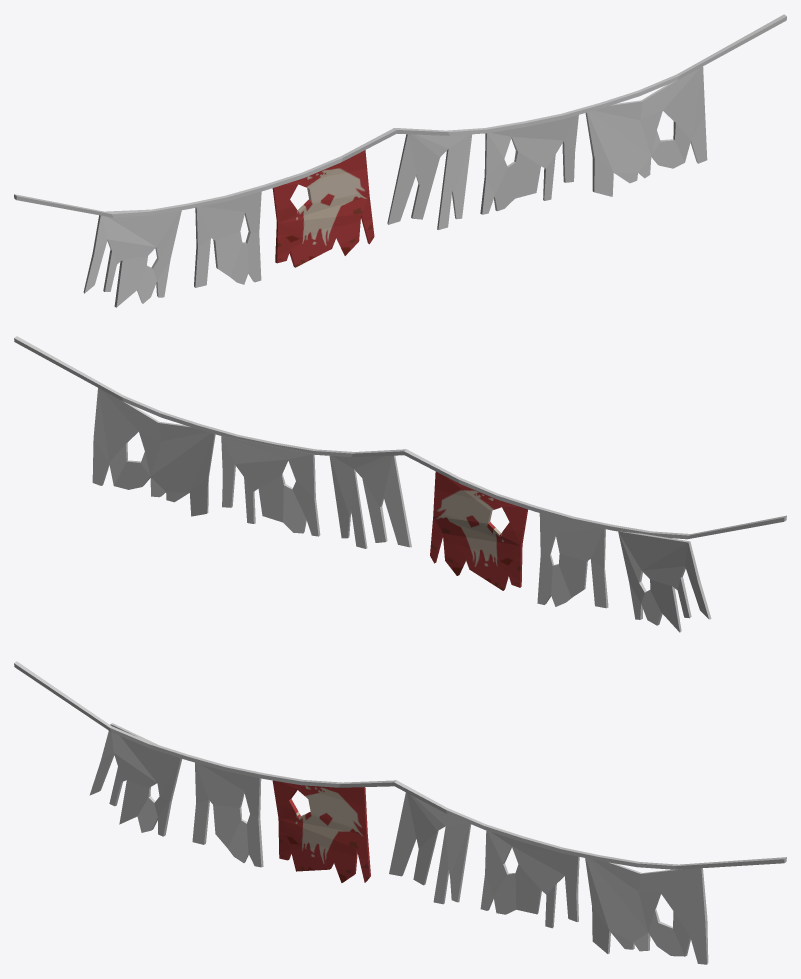
Rendered from SM_Prop_Bunting_02.fbx.
The picture shows the model from 3 angles, top to bottom: view 1: azimuth 30°, elevation 25°; view 2: azimuth 150°, elevation 25°; view 3: azimuth 330°, elevation 25°; orthographic projection.
Parts seen in each view (by area): view 1: SM_Prop_Bunting_02; view 2: SM_Prop_Bunting_02; view 3: SM_Prop_Bunting_02.
Part boxes in pixels (<box>): SM_Prop_Bunting_02: <box>14,14,786,307</box>; SM_Prop_Bunting_02: <box>14,336,786,632</box>; SM_Prop_Bunting_02: <box>14,661,786,964</box>.
Bounding box in the file's own units: 572 × 104 × 11.43.
